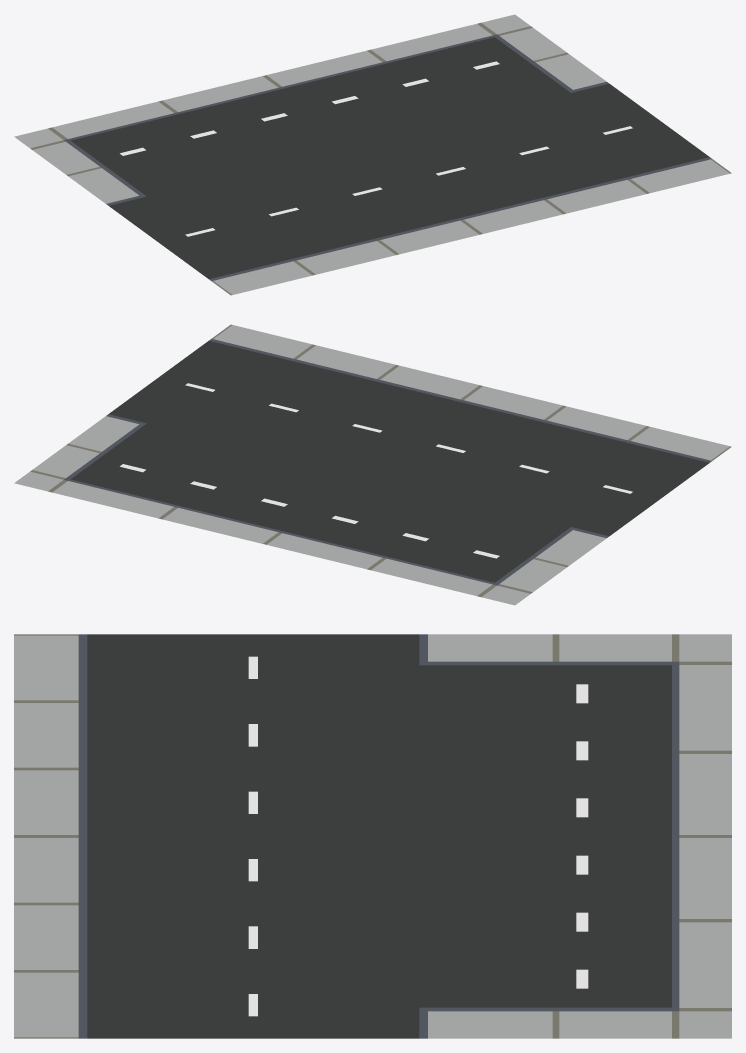
The model's file is road block2.FBX.
The picture shows the model from 3 angles, top to bottom: view 1: azimuth 30°, elevation 25°; view 2: azimuth 150°, elevation 25°; view 3: azimuth 270°, elevation 25°; orthographic projection. The views are drawn at different scales.
Parts seen in each view (by area): view 1: road block2; view 2: road block2; view 3: road block2.
Boxes of the visible parts, x1,y1,x2,y2 form: road block2: [14, 14, 731, 295]; road block2: [14, 324, 731, 605]; road block2: [14, 634, 731, 1038].
Size of the model in its own units: 40 by 1.31e-06 by 30.
